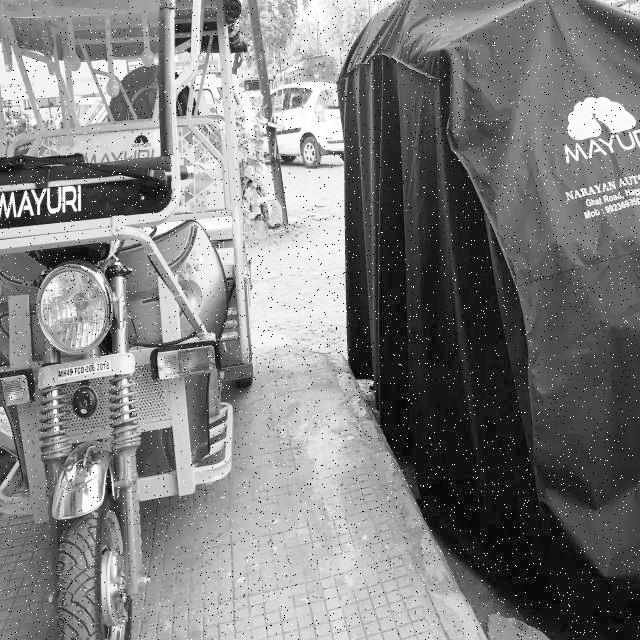Toto: (0, 0, 239, 640)
